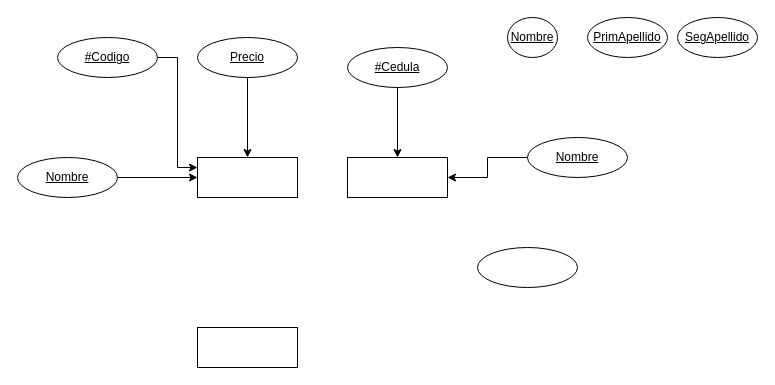
Image size: 775x385. Some labels were removed from this diagram. Each missing label, with the box of its shape:
Attribute: (476, 246, 578, 288)
Curso: (196, 156, 298, 198)
Estudiante: (196, 326, 298, 368)
Instructor: (346, 156, 448, 198)
